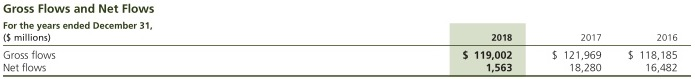column: (3, 1, 154, 79), (474, 1, 513, 79), (564, 1, 602, 79), (640, 1, 678, 78), (461, 1, 469, 79), (552, 1, 557, 78), (628, 1, 633, 78)
row: (1, 49, 695, 61), (1, 3, 695, 14), (1, 20, 695, 31), (1, 33, 695, 42), (1, 63, 695, 72)
